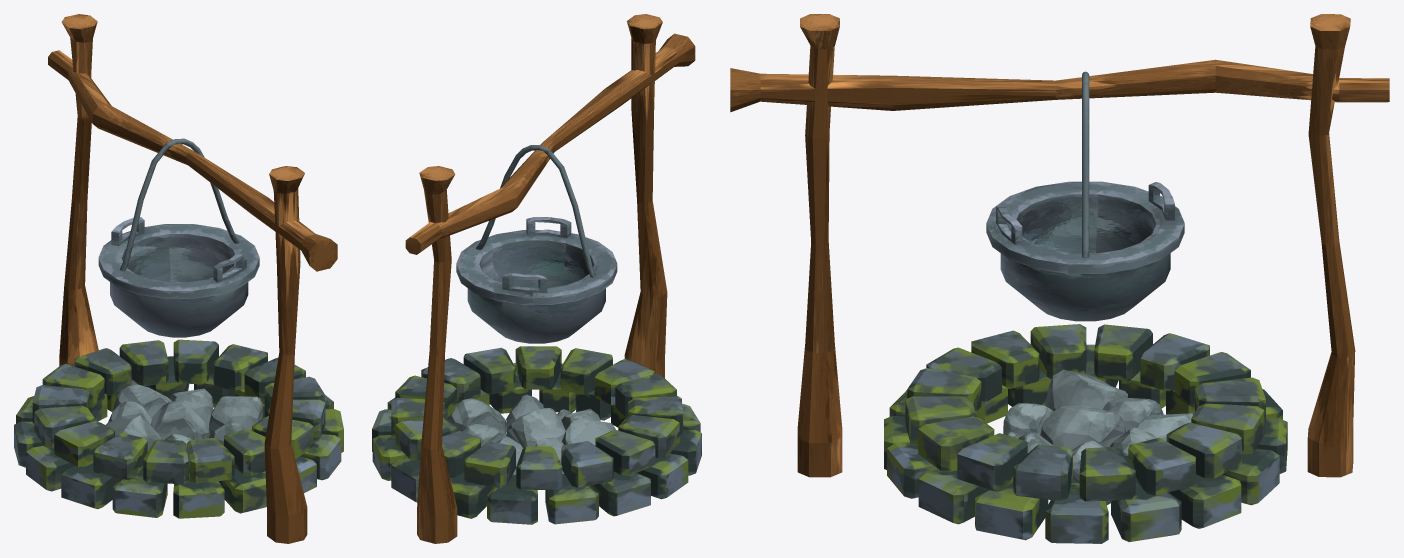
The model's file is Firepit.fbx.
3 renders of one model, left to right at view 1: azimuth 30°, elevation 25°; view 2: azimuth 150°, elevation 25°; view 3: azimuth 270°, elevation 25°, orthographic. The views are drawn at different scales.
Parts seen in each view (by area): view 1: Stone_Block.022, Cylinder.004, Stone_Block.016, Cube.034, Cube.036, Cube.035, Cube.025, BezierCurve, Cube.026, Cube.032, Cube.028, Cube.027 (+1 smaller); view 2: Stone_Block.022, Stone_Block.016, Cylinder.004, Cube.034, Cube.035, Cube.036, Cube.025, BezierCurve, Cube.026, Cube.028, Cube.031, Cube.027; view 3: Stone_Block.022, Stone_Block.016, Cylinder.004, Cube.036, Cube.034, Cube.035, Cube.025, Cube.028, BezierCurve, Cube.030, Cube.029, Cube.032.
Part boxes in pixels (bbox=[...]): Stone_Block.022: bbox=[32, 339, 325, 483]; Cylinder.004: bbox=[98, 217, 259, 337]; Stone_Block.016: bbox=[14, 356, 343, 518]; Cube.034: bbox=[264, 166, 307, 543]; Cube.036: bbox=[48, 50, 337, 271]; Cube.035: bbox=[59, 14, 98, 366]; Cube.025: bbox=[151, 401, 209, 439]; BezierCurve: bbox=[120, 138, 239, 271]; Cube.026: bbox=[209, 396, 263, 434]; Cube.032: bbox=[113, 384, 171, 418]; Cube.028: bbox=[106, 413, 161, 451]; Cube.027: bbox=[170, 388, 213, 433]; Stone_Block.022: bbox=[391, 346, 682, 489]; Stone_Block.016: bbox=[372, 363, 701, 524]; Cylinder.004: bbox=[456, 217, 617, 343]; Cube.034: bbox=[624, 14, 667, 377]; Cube.035: bbox=[417, 166, 457, 543]; Cube.036: bbox=[405, 33, 695, 254]; Cube.025: bbox=[506, 408, 565, 448]; BezierCurve: bbox=[476, 145, 595, 277]; Cube.026: bbox=[449, 398, 507, 434]; Cube.028: bbox=[562, 419, 615, 445]; Cube.031: bbox=[506, 394, 543, 431]; Cube.027: bbox=[463, 424, 507, 446]; Stone_Block.022: bbox=[905, 324, 1265, 501]; Stone_Block.016: bbox=[884, 344, 1287, 543]; Cylinder.004: bbox=[986, 181, 1184, 321]; Cube.036: bbox=[730, 59, 1389, 112]; Cube.034: bbox=[797, 14, 842, 477]; Cube.035: bbox=[1307, 14, 1355, 477]; Cube.025: bbox=[1040, 404, 1125, 449]; Cube.028: bbox=[1045, 369, 1127, 410]; BezierCurve: bbox=[1082, 71, 1089, 257]; Cube.030: bbox=[1003, 403, 1053, 436]; Cube.029: bbox=[1102, 397, 1163, 431]; Cube.032: bbox=[1137, 413, 1193, 441].
Size of the model in its own units: 791 by 993 by 1292.
